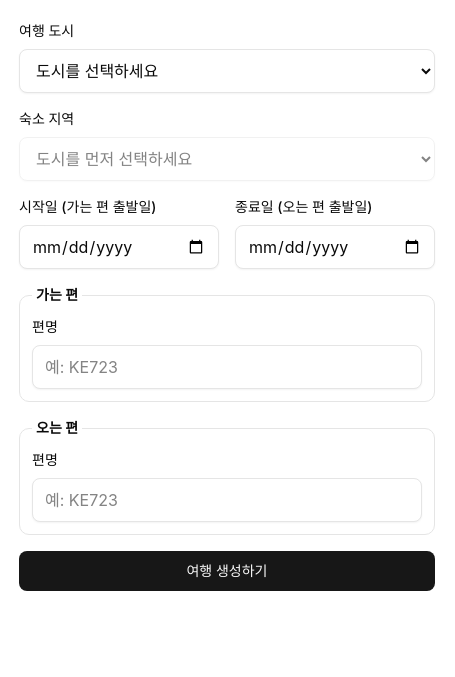
Test: TripCreatePage › shows the server detail for INVALID_DATE_RANGE
Select "오사카" in the dropdown labelled "여행 도시". click: (227, 71)
box: [19,49,435,93]
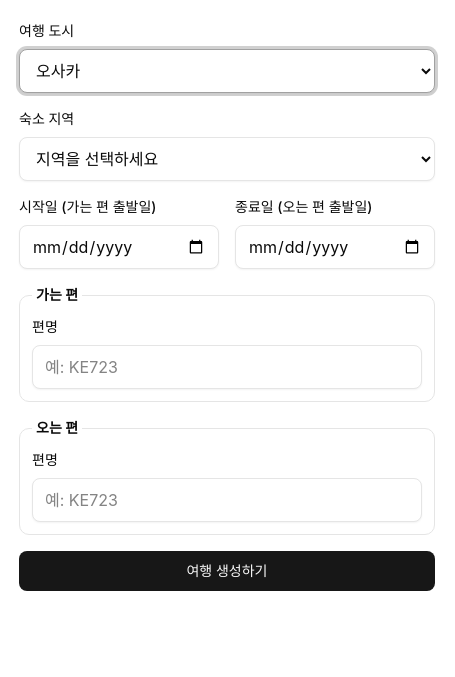
Expected: the dropdown labelled "숙소 지역" is enabled
Select "난바" in the dropdown labelled "숙소 지역". click: (227, 159)
box: [19,137,435,181]
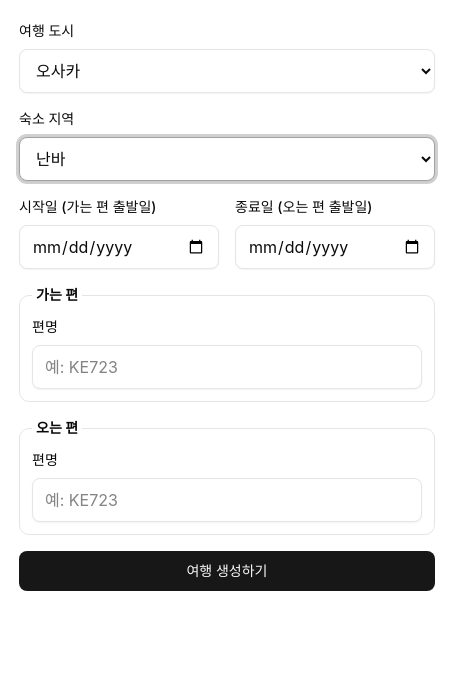
Type "2026-11-05" into the date field labelled "시작일 (가는 편 출발일)". click: (119, 247)
box: [19,225,219,269]
Type "2026-11-08" into the date field labelled "종료일 (오는 편 출발일)". click: (335, 247)
box: [235,225,435,269]
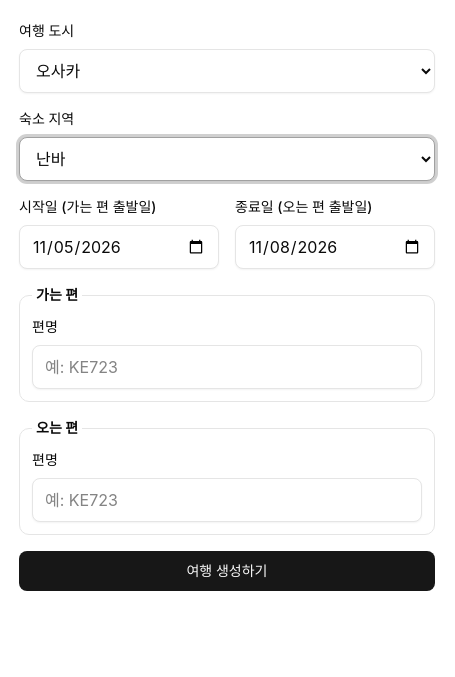
Type "KE723" into the 1st field labelled "편명". click: (227, 367)
box: [32,345,422,389]
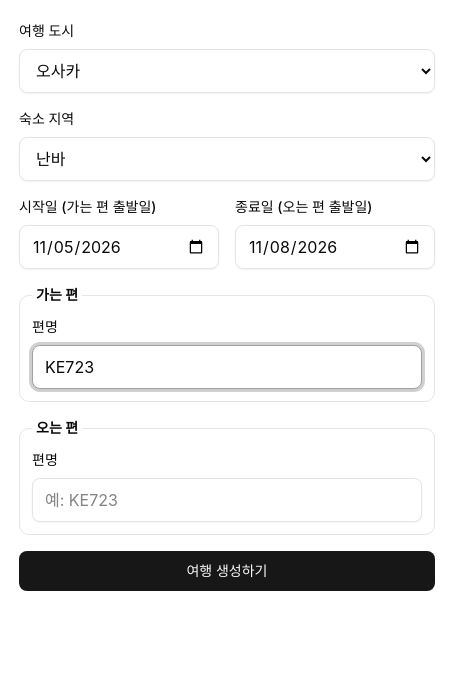
Type "KE724" into the 2nd field labelled "편명". click: (227, 500)
box: [32,478,422,522]
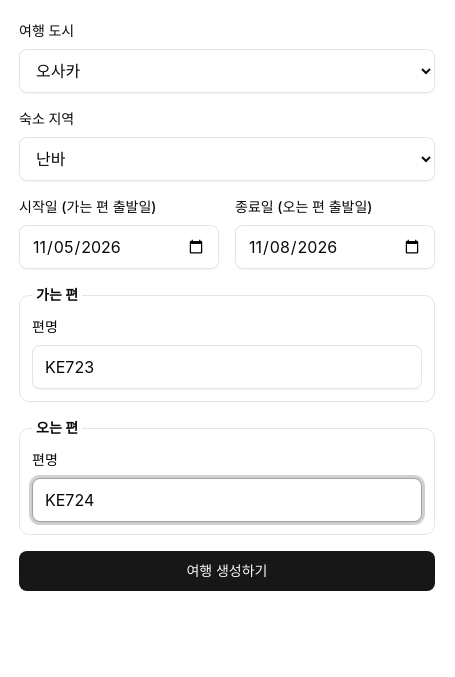
Click the button "여행 생성하기". click: (227, 571)
box: [19,551,435,591]
(page scrolled)
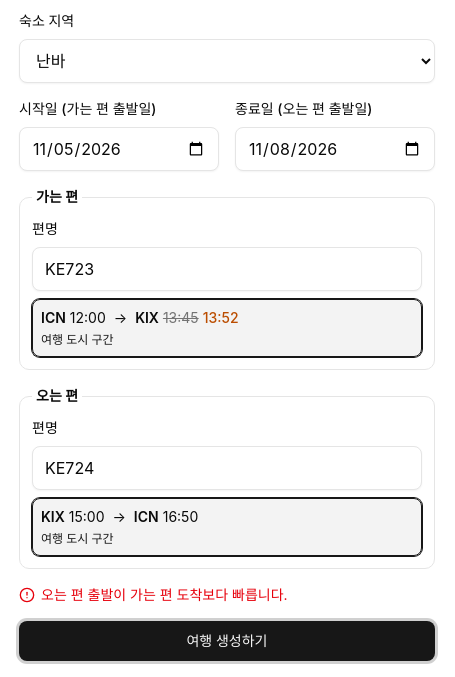
Expected: the text "오는 편 출발이 가는 편 도착보다 빠릅니다." is shown, [19,586,288,603]
